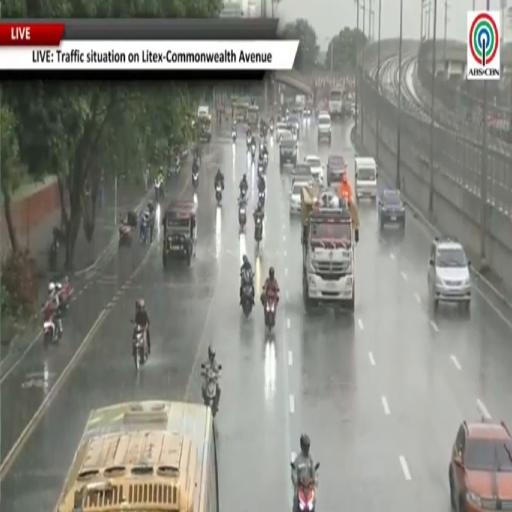bus: (56, 402, 218, 511), (329, 89, 342, 119)
car: (449, 416, 511, 511), (428, 236, 471, 312), (378, 189, 405, 231), (327, 154, 347, 185), (290, 180, 308, 214), (280, 133, 297, 168), (304, 155, 323, 185), (317, 112, 331, 142), (292, 163, 312, 181), (287, 114, 300, 137), (276, 122, 288, 141), (303, 105, 312, 118), (291, 127, 297, 141)
jeepney: (162, 201, 197, 268), (232, 101, 248, 123), (197, 116, 211, 141), (248, 106, 259, 130)
motorcycle: (202, 364, 221, 417), (43, 302, 61, 343), (294, 476, 315, 511), (133, 325, 148, 370), (119, 212, 137, 247), (48, 227, 61, 271), (59, 276, 73, 312), (242, 276, 254, 317), (265, 294, 276, 331), (167, 155, 181, 179), (119, 223, 132, 247), (148, 212, 156, 243), (140, 217, 148, 244), (239, 203, 246, 232), (154, 180, 163, 202), (255, 218, 262, 244), (258, 191, 265, 209), (192, 172, 199, 189), (216, 185, 221, 205), (258, 163, 264, 177), (240, 187, 247, 199), (247, 136, 251, 151), (251, 144, 255, 159), (264, 153, 268, 168), (232, 131, 236, 142), (270, 122, 273, 134)
truck: (301, 184, 359, 312)
